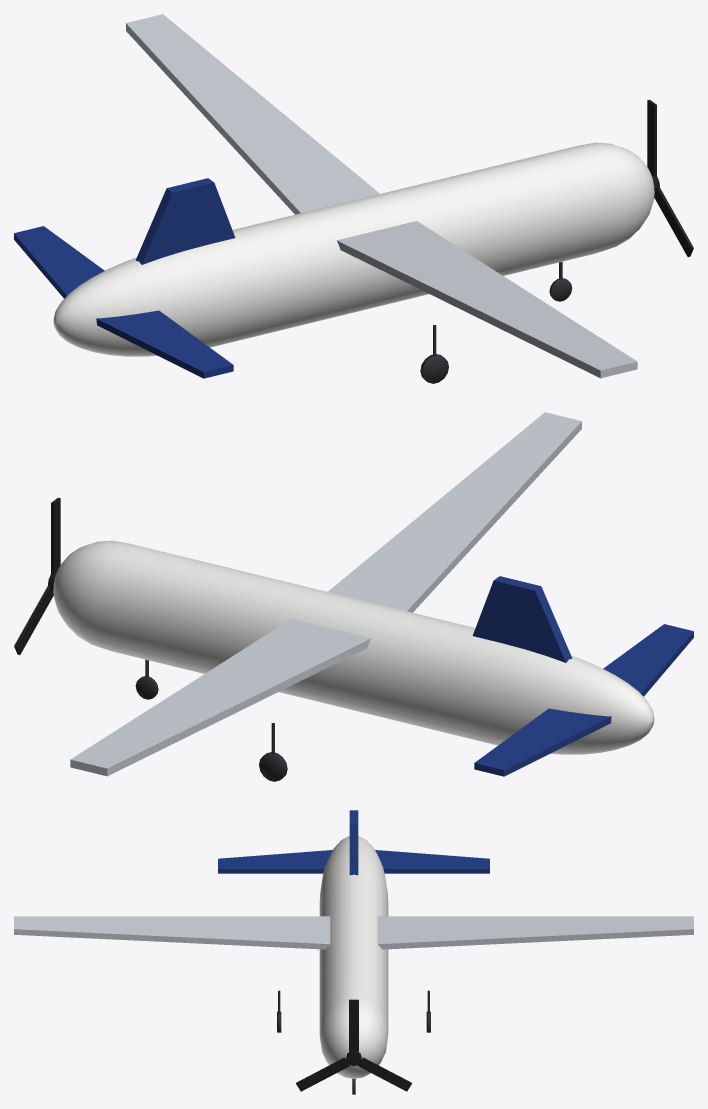
The picture shows the model from 3 angles, top to bottom: view 1: azimuth 30°, elevation 25°; view 2: azimuth 150°, elevation 25°; view 3: azimuth 270°, elevation 25°; orthographic projection. The views are drawn at different scales.
Parts seen in each view (by area): view 1: fuselage, wings, tail, propellers, gear; view 2: fuselage, wings, tail, propellers, gear; view 3: wings, fuselage, tail, propellers.
Boxes of the visible parts, x1,y1,x2,y2 form: fuselage: [53, 142, 654, 356]; wings: [126, 14, 637, 378]; tail: [14, 178, 235, 378]; propellers: [647, 99, 693, 256]; gear: [420, 261, 572, 383]; fuselage: [53, 540, 654, 754]; wings: [70, 412, 581, 776]; tail: [472, 576, 693, 776]; propellers: [14, 497, 60, 654]; gear: [135, 659, 287, 781]; wings: [14, 916, 693, 949]; fuselage: [319, 836, 388, 1078]; tail: [218, 810, 489, 875]; propellers: [296, 999, 411, 1091].
Bounding box in the file's own units: 11.59 × 3.79 × 15.9.
